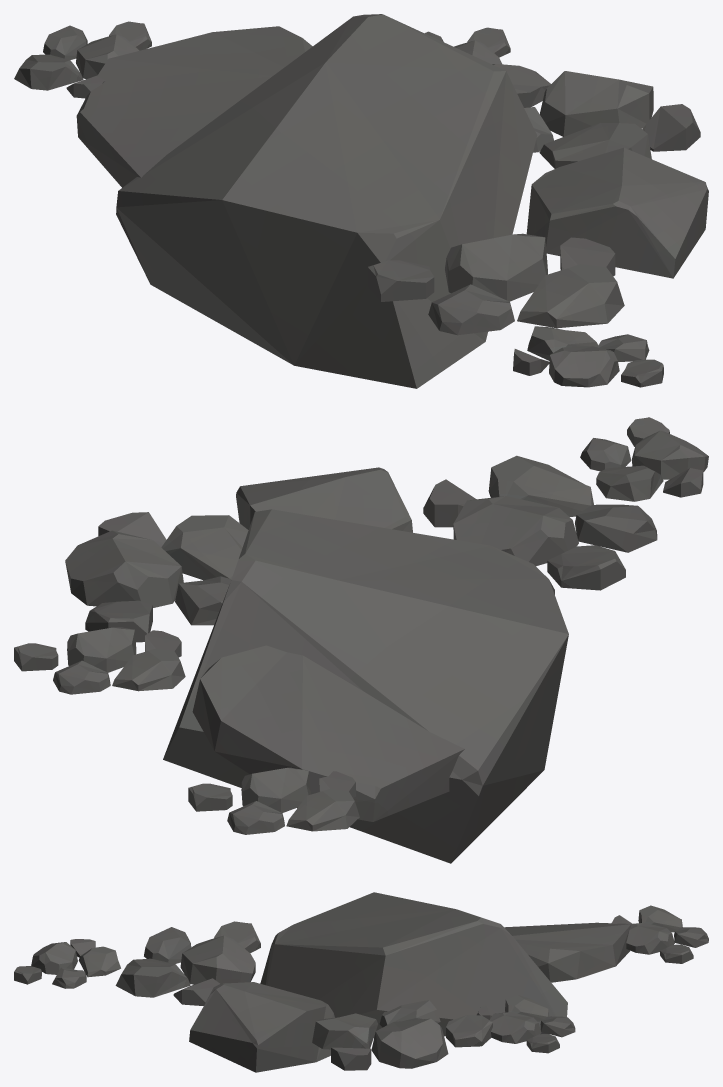
The model's file is Rock_Debris_06.fbx.
3 views of the same model, one above another, from view 1: azimuth 30°, elevation 25°; view 2: azimuth 150°, elevation 25°; view 3: azimuth 270°, elevation 25° (orthographic). The views are drawn at different scales.
Parts seen in each view (by area): view 1: SM_Rock_Debris_06.mo; view 2: SM_Rock_Debris_06.mo; view 3: SM_Rock_Debris_06.mo.
Part boxes in pixels (x1=…): SM_Rock_Debris_06.mo: x1=14, y1=14, x2=708, y2=388; SM_Rock_Debris_06.mo: x1=14, y1=417, x2=708, y2=863; SM_Rock_Debris_06.mo: x1=14, y1=892, x2=708, y2=1072.
Bounding box in the file's own units: 257 × 122 × 473.
